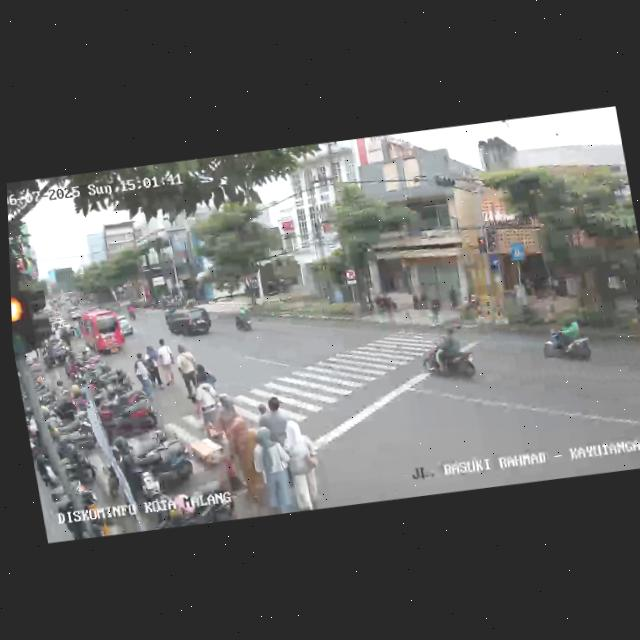car: (74, 306, 127, 358), (163, 305, 216, 343)
motorcycle: (417, 325, 483, 386), (537, 313, 597, 371), (231, 304, 256, 336)
person: (221, 415, 272, 508), (279, 419, 324, 512), (251, 423, 294, 516), (192, 370, 227, 443), (252, 394, 295, 449), (173, 341, 202, 404), (129, 349, 157, 403), (213, 389, 243, 432), (142, 344, 166, 395), (155, 336, 177, 389), (194, 361, 219, 394), (425, 293, 444, 326)
